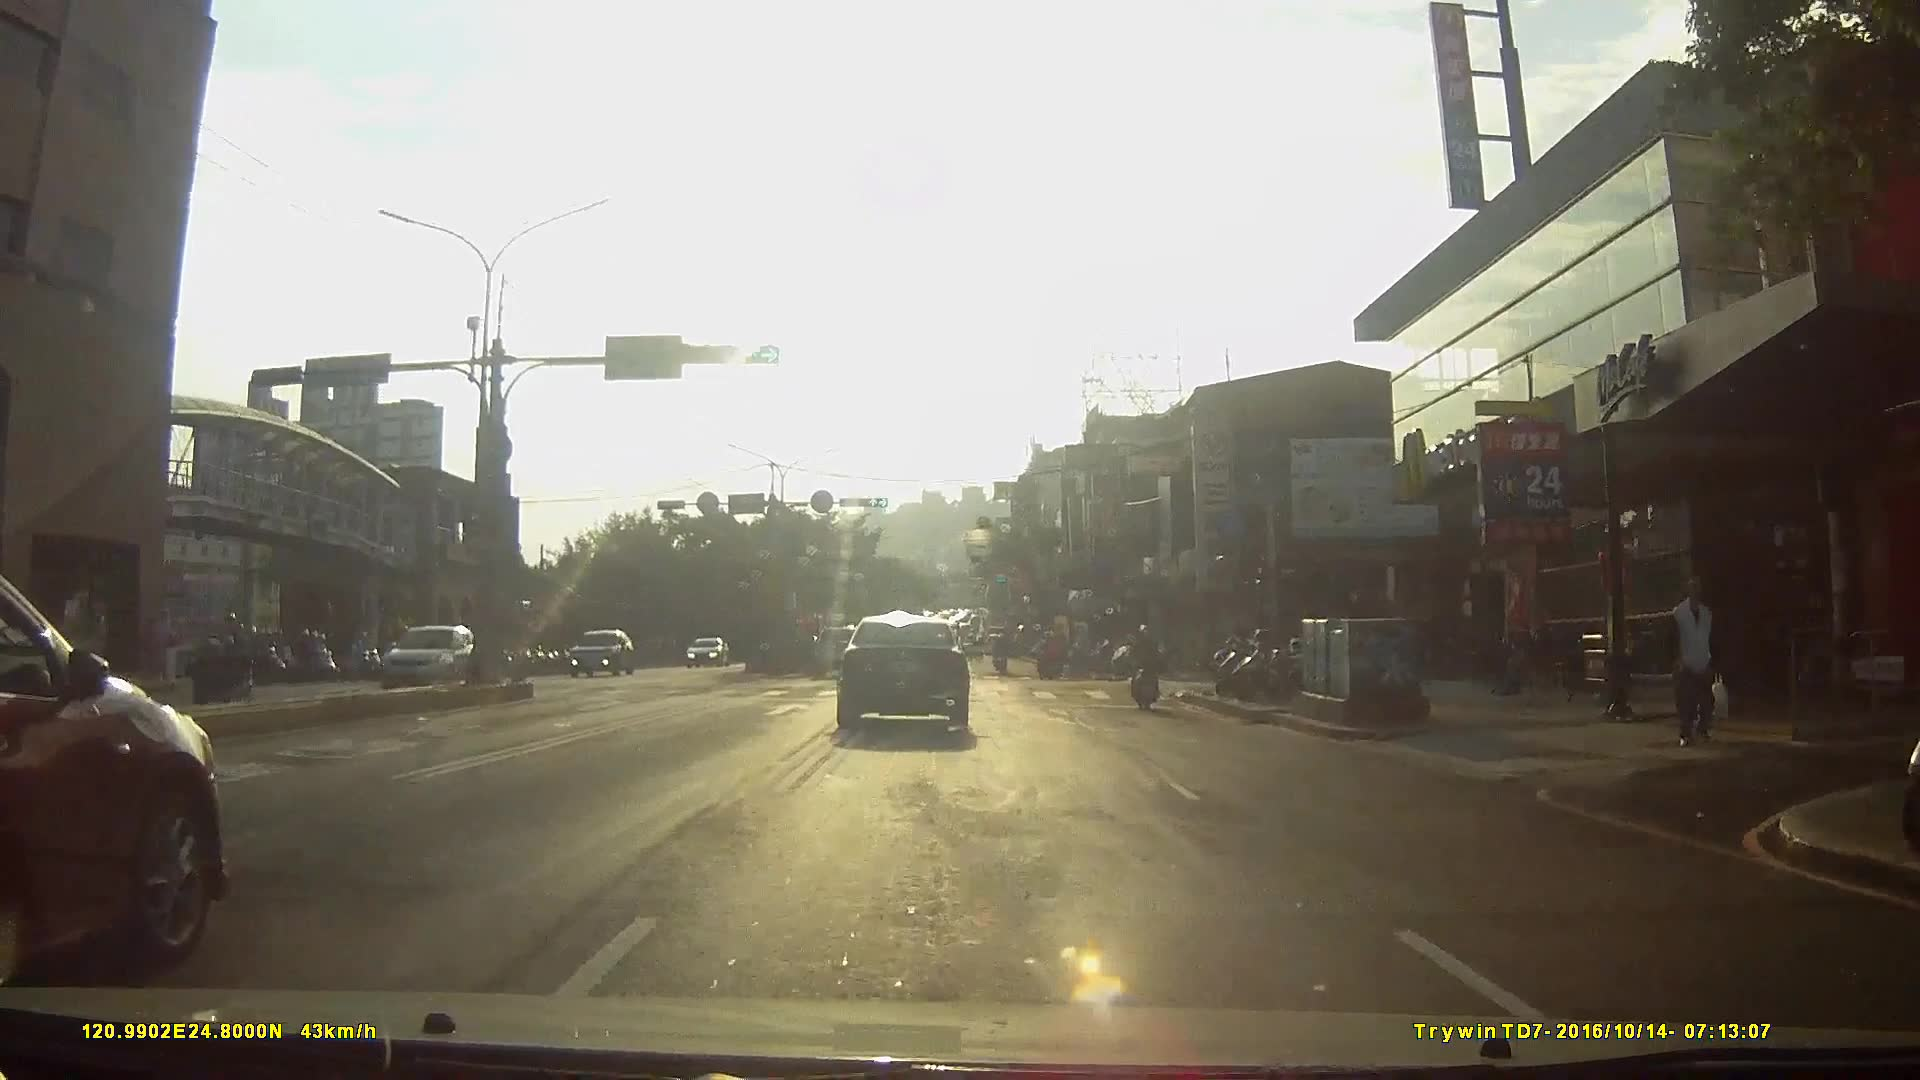pedestrian: (1664, 573, 1732, 748)
rider: (190, 612, 240, 707), (231, 624, 294, 688), (1127, 620, 1164, 713), (296, 632, 348, 684), (1038, 630, 1065, 680), (991, 634, 1011, 675)
vehicle: (1, 555, 236, 995), (834, 609, 988, 735), (377, 620, 492, 698), (567, 627, 640, 681), (813, 625, 872, 680), (682, 632, 732, 668)
